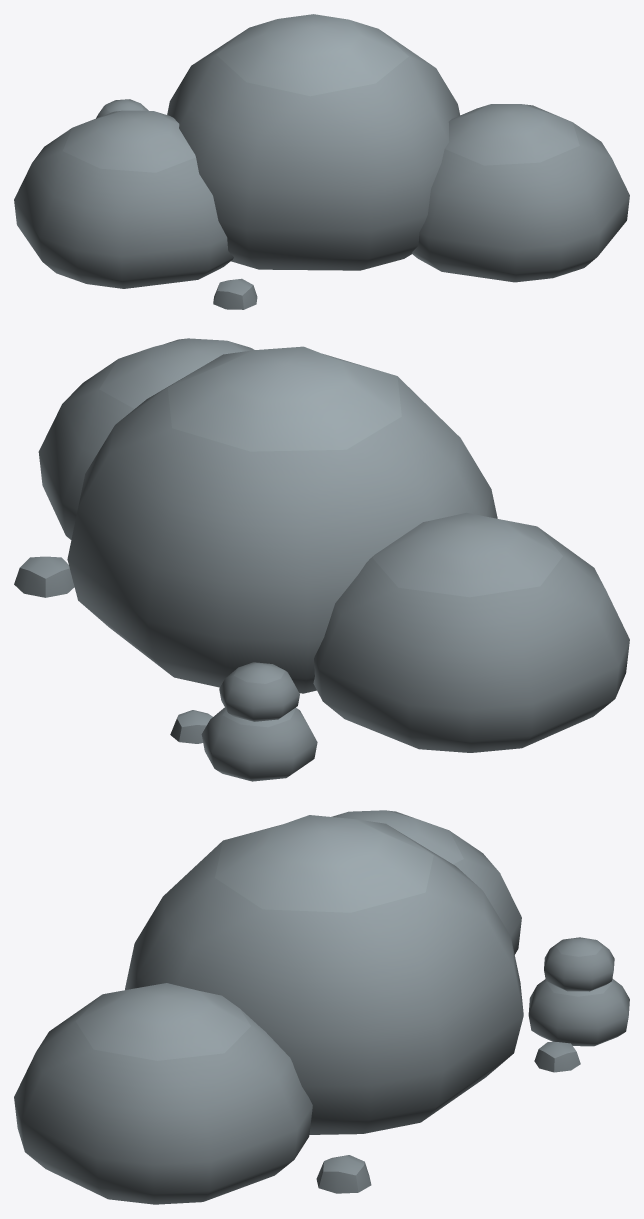
The model's file is Rock_5_G_Color1.gltf.
3 views of the same model, one above another, from view 1: azimuth 30°, elevation 25°; view 2: azimuth 150°, elevation 25°; view 3: azimuth 270°, elevation 25° (orthographic). The views are drawn at different scales.
Visible parts, largest first — view 1: Rock_5_G_Color1; view 2: Rock_5_G_Color1; view 3: Rock_5_G_Color1.
Boxes of the visible parts, x1=… form: Rock_5_G_Color1: x1=14, y1=14, x2=629, y2=309; Rock_5_G_Color1: x1=14, y1=338, x2=629, y2=781; Rock_5_G_Color1: x1=14, y1=810, x2=629, y2=1204.
Size of the model in its own units: 2.35 by 0.9346 by 2.05.
1 material, 1 textured.
